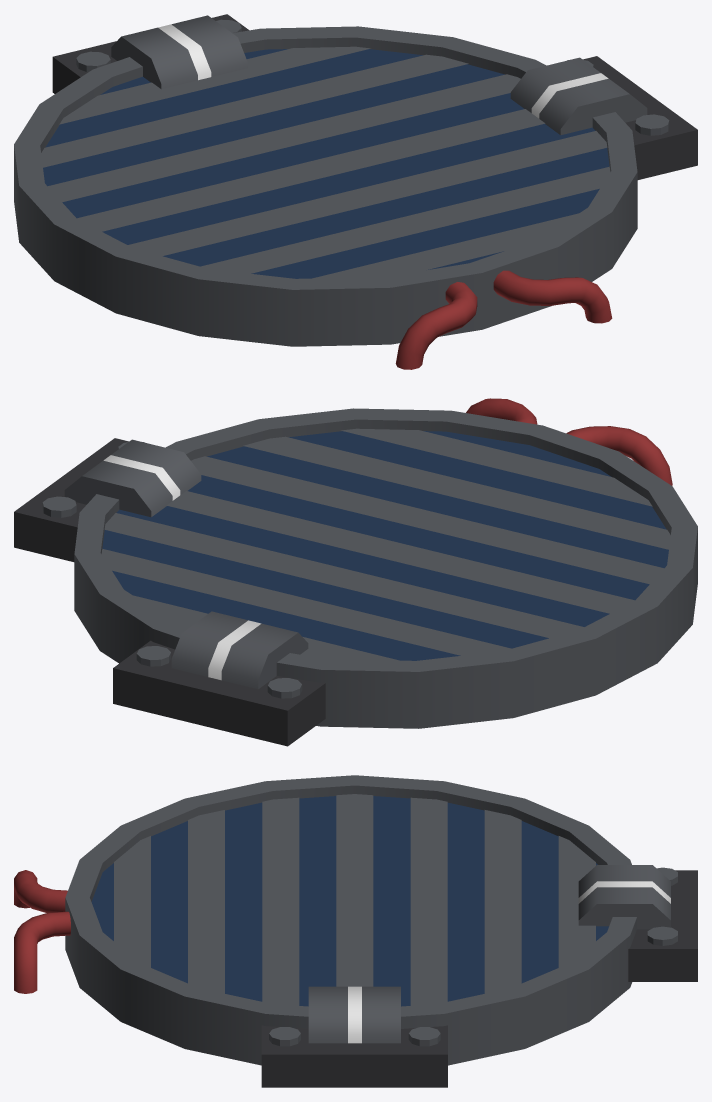
File: holopad.fbx
The picture shows the model from 3 angles, top to bottom: view 1: azimuth 30°, elevation 25°; view 2: azimuth 150°, elevation 25°; view 3: azimuth 270°, elevation 25°; orthographic projection. The views are drawn at different scales.
Parts seen in each view (by area): view 1: Holopad; view 2: Holopad; view 3: Holopad.
Boxes of the visible parts, <box> form: Holopad: <box>14,14,697,369</box>; Holopad: <box>14,398,697,746</box>; Holopad: <box>14,775,697,1087</box>.
Bounding box in the file's own units: 0.8222 × 0.0942 × 0.889.
